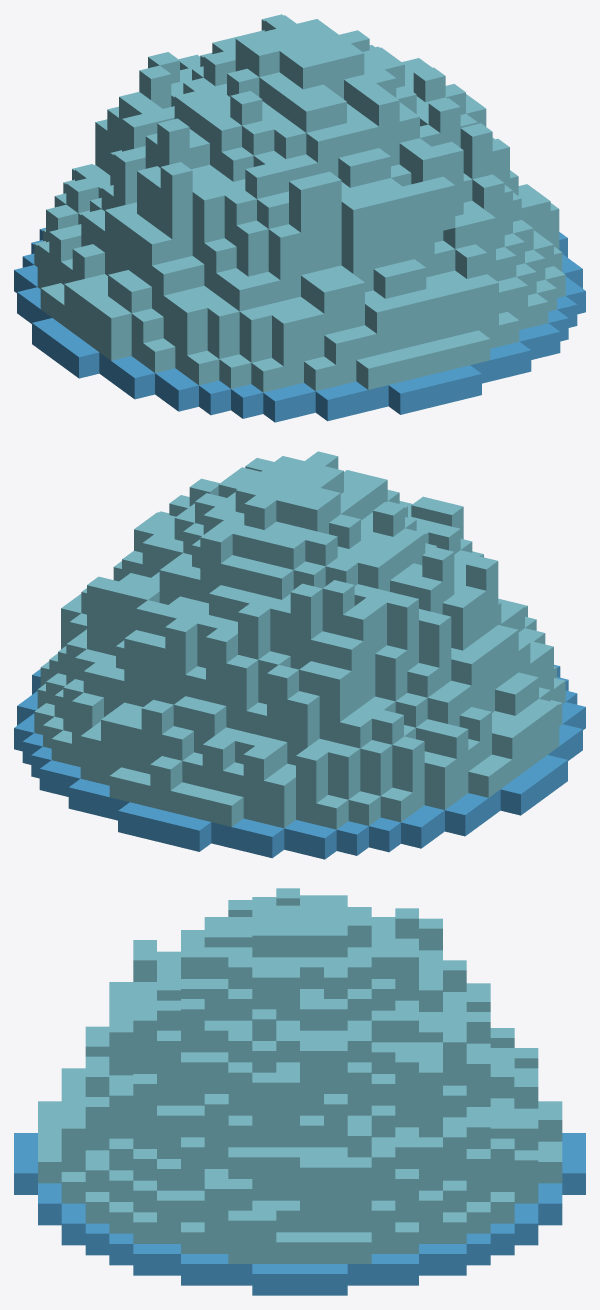
File: slime.glb
The picture shows the model from 3 angles, top to bottom: view 1: azimuth 30°, elevation 25°; view 2: azimuth 150°, elevation 25°; view 3: azimuth 270°, elevation 25°; orthographic projection.
Parts seen in each view (by area): view 1: Node; view 2: Node; view 3: Node.
Boxes of the visible parts, x1,y1,x2,y2 form: Node: [14, 14, 585, 422]; Node: [14, 451, 585, 859]; Node: [14, 888, 585, 1295].
Bounding box in the file's own units: 2.4 × 1.2 × 2.4.
Materials: 1 (1 with a texture image).
